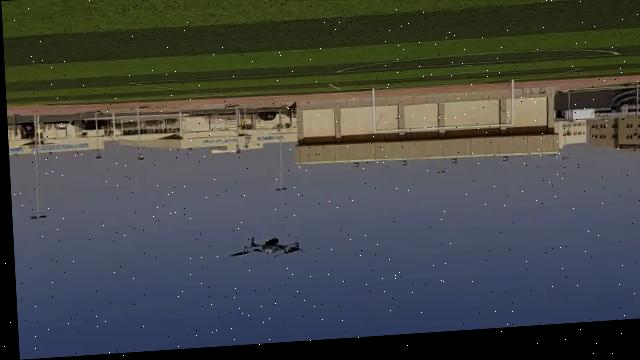drone: (226, 233, 304, 267)
